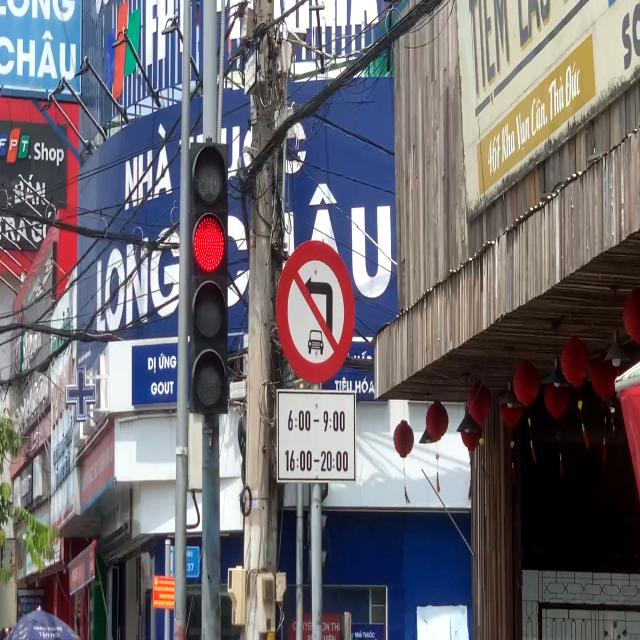P.103c: (275, 239, 356, 385)
